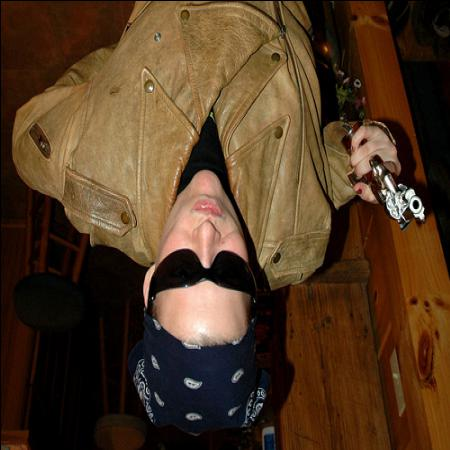Pistol: (344, 138, 426, 236)
